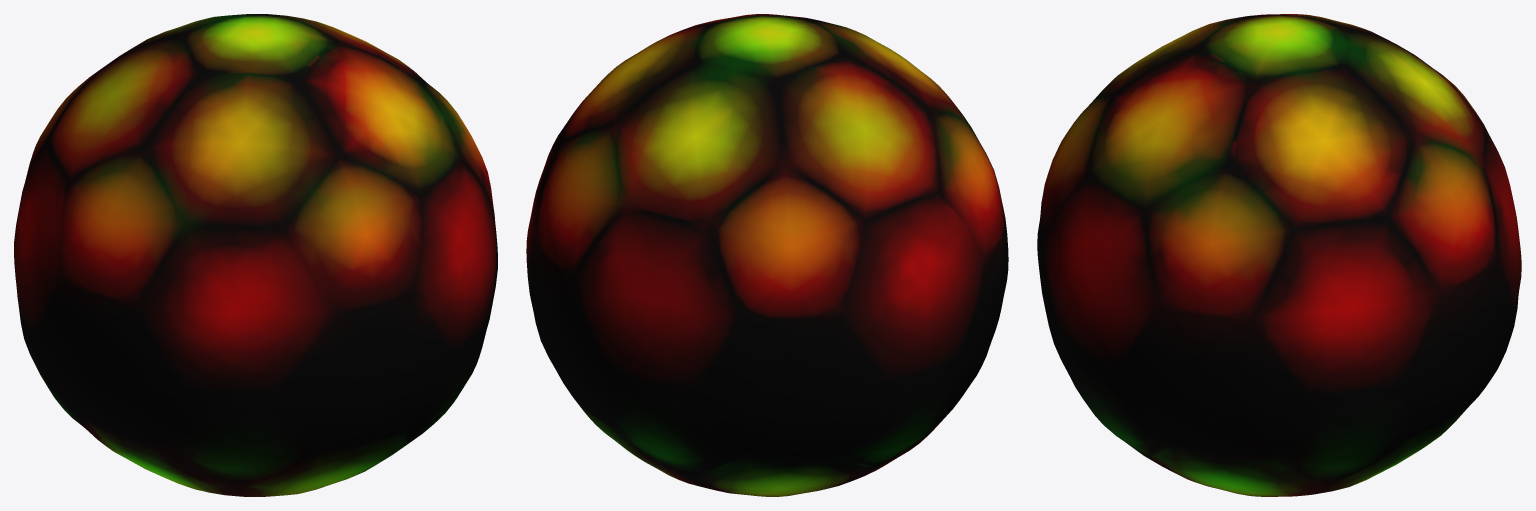
The model's file is Squishy.fbx.
3 views of the same model, side by side, from view 1: azimuth 30°, elevation 25°; view 2: azimuth 150°, elevation 25°; view 3: azimuth 270°, elevation 25° (orthographic).
Visible parts, largest first — view 1: GD_mesh.001; view 2: GD_mesh.001; view 3: GD_mesh.001.
Boxes of the visible parts, bbox=[...] form: GD_mesh.001: bbox=[14, 14, 497, 496]; GD_mesh.001: bbox=[526, 14, 1008, 496]; GD_mesh.001: bbox=[1037, 14, 1521, 496].
Bounding box in the file's own units: 162 × 165 × 162.
